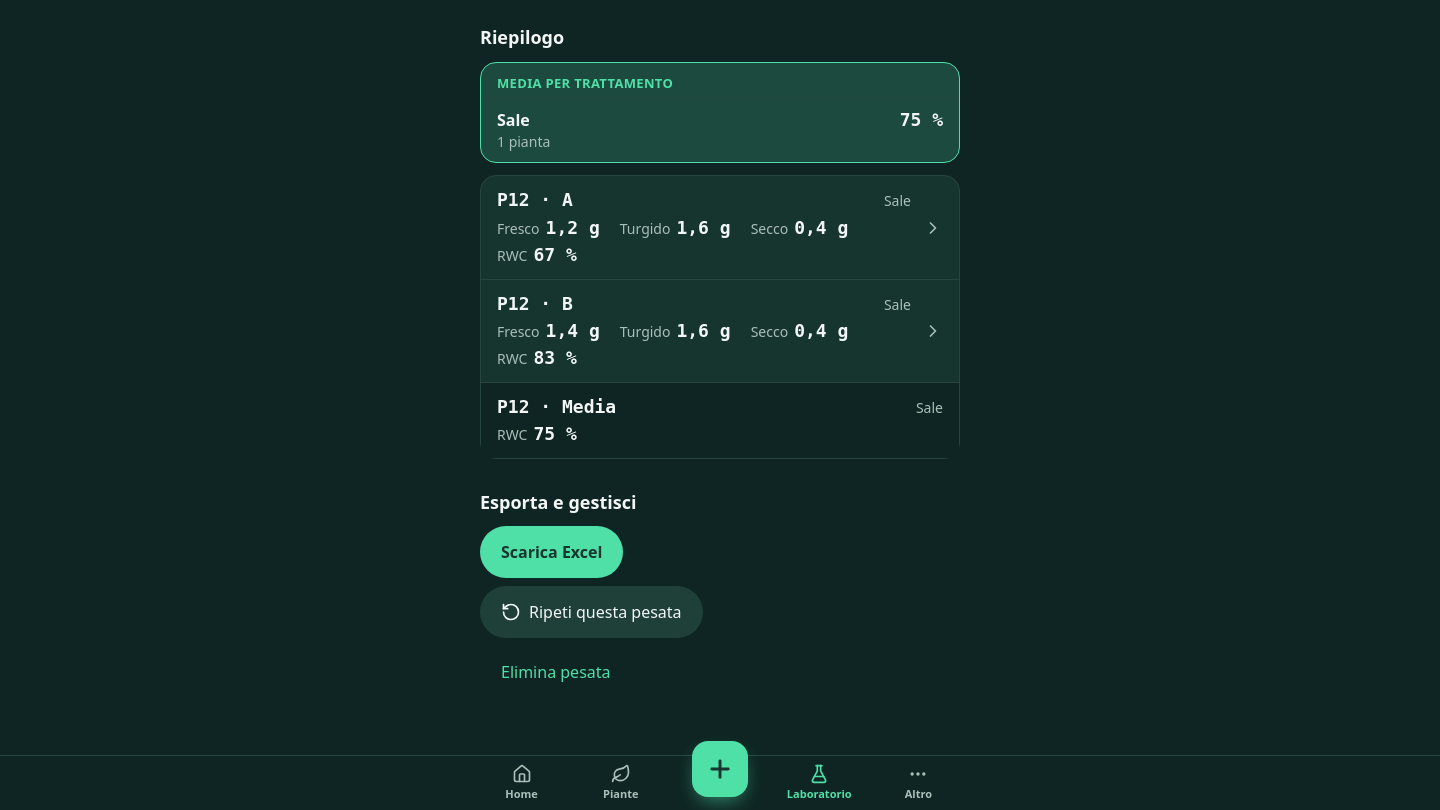
Scenario: Sessione › un rilevatore a cui il database rifiuta l'eliminazione legge perché
(page scrolled)
Click the button "Elimina pesata" at (556, 672), box [480,646,632,698]
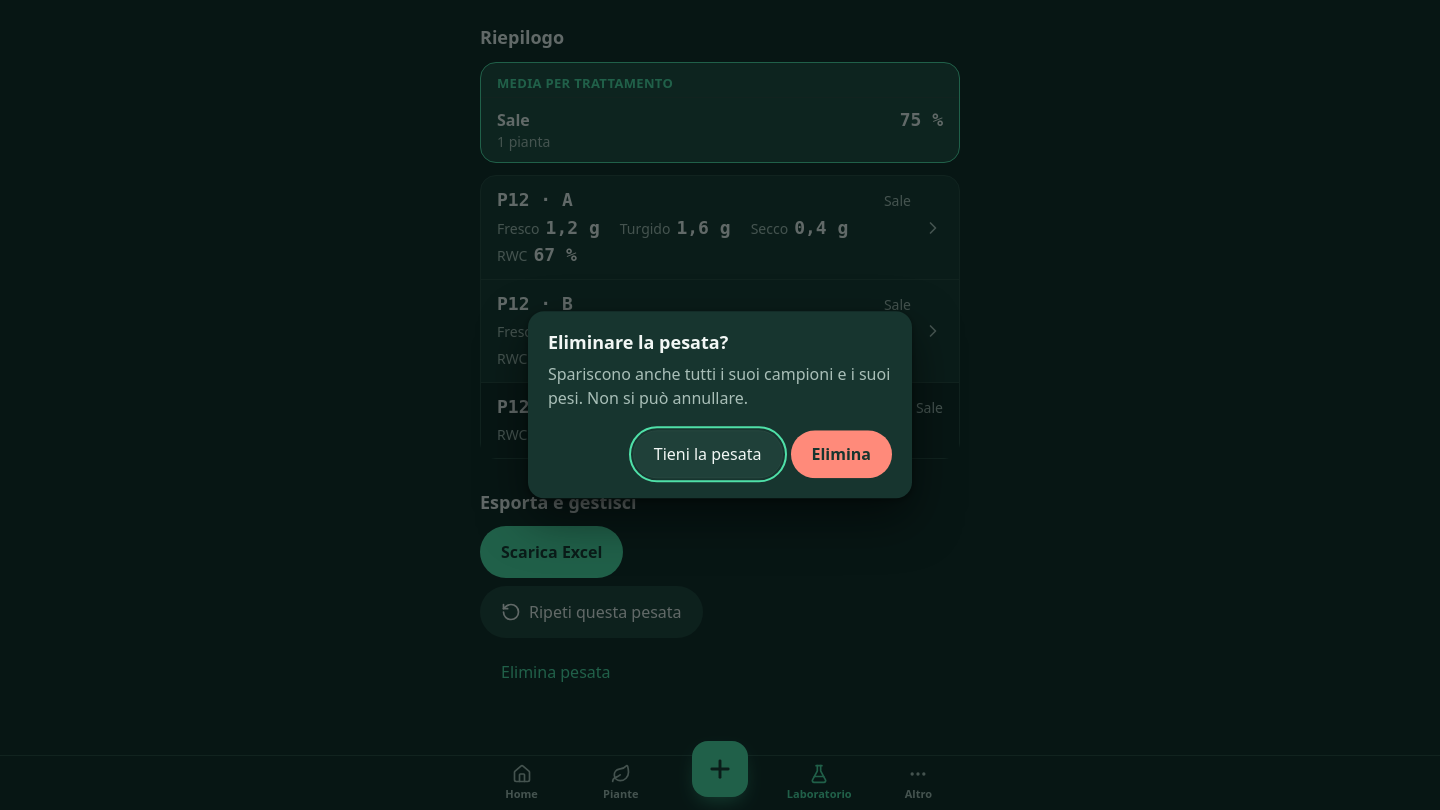
Click the button "Elimina" at (841, 455), box [790,431,892,479]
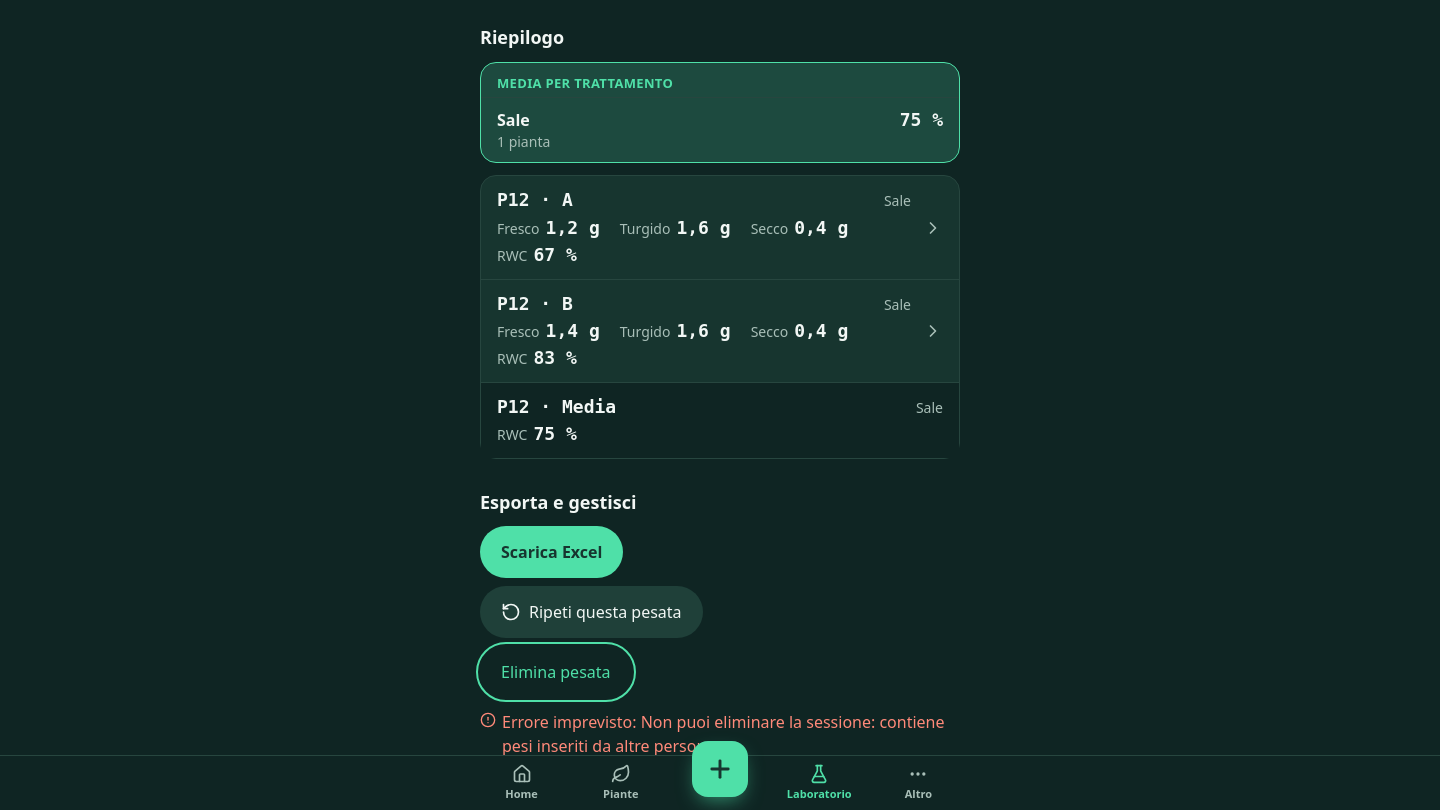
expect the message shows "Non puoi eliminare la sessione: contiene pesi inseriti da altre persone.": met, box [502,711,944,757]
